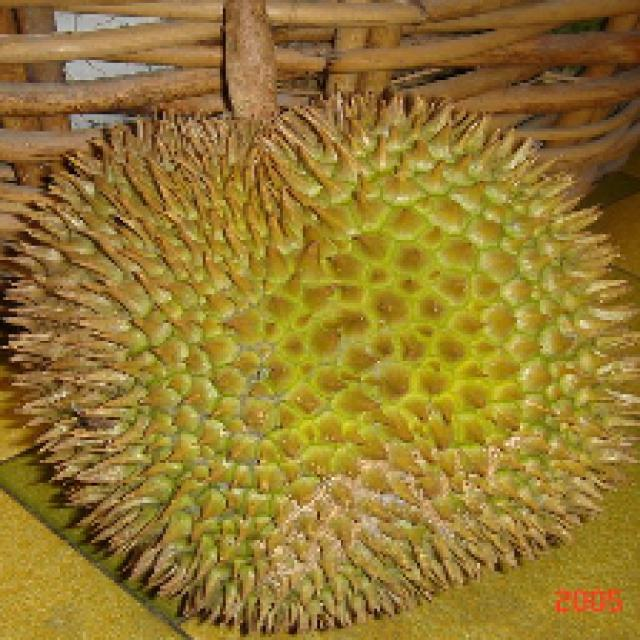d24: (56, 28, 621, 582)
